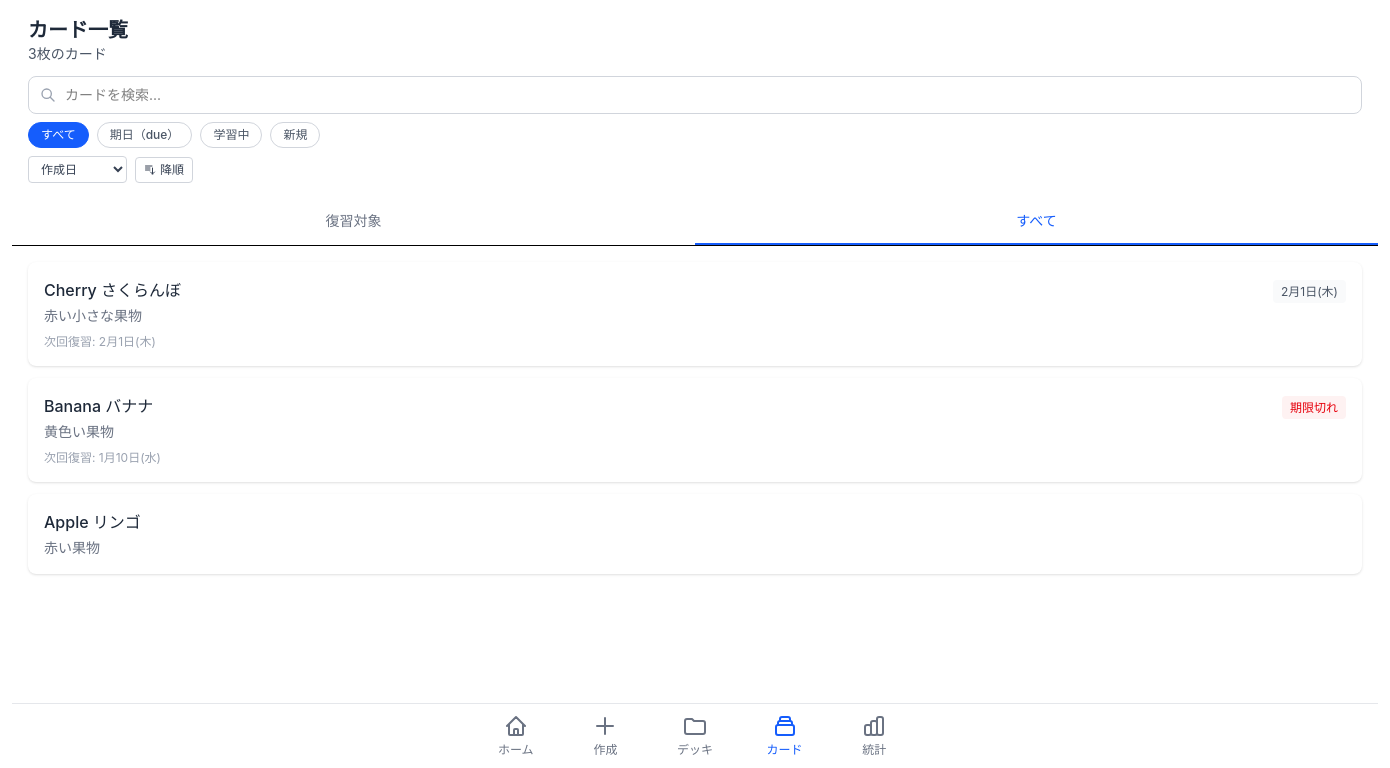
Test case: CardsPage › 検索・フィルター統合テスト › 検索0件時に「該当するカードがありません」が表示される
Step 1. Type "存在しないキーワードXYZ" into the search field with test id "search-bar-input" → (695, 95), box left=28, top=76, right=1362, bottom=114
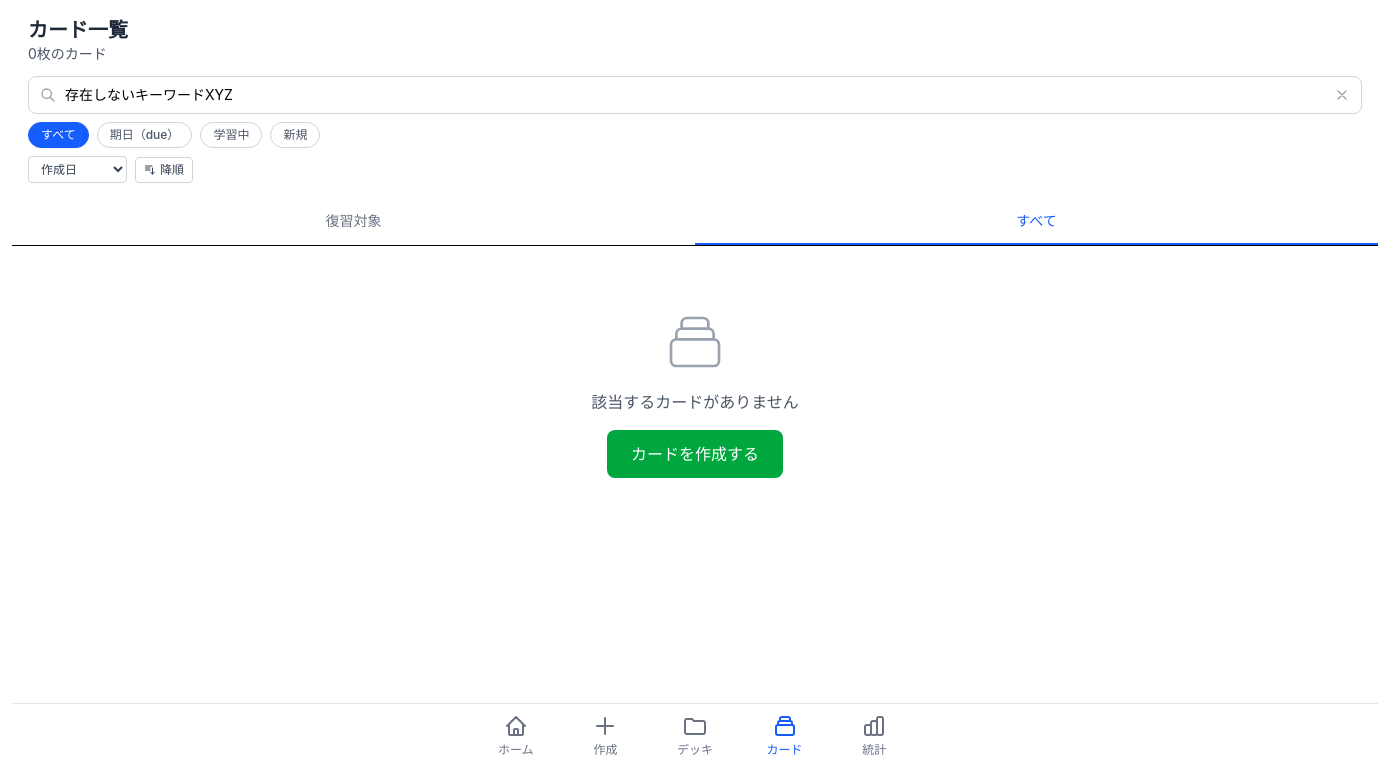
Result: the text "該当するカードがありません" is shown at left=591, top=392, right=799, bottom=412
